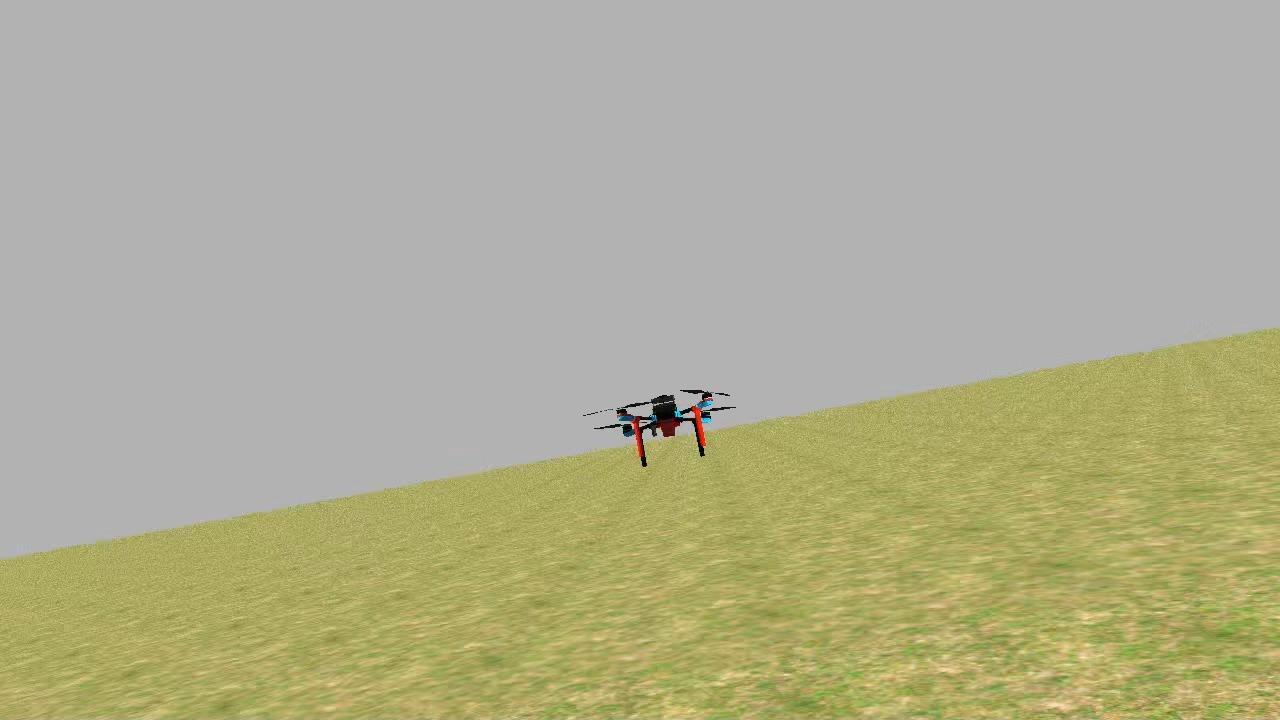UAV: (594, 377, 737, 474)
